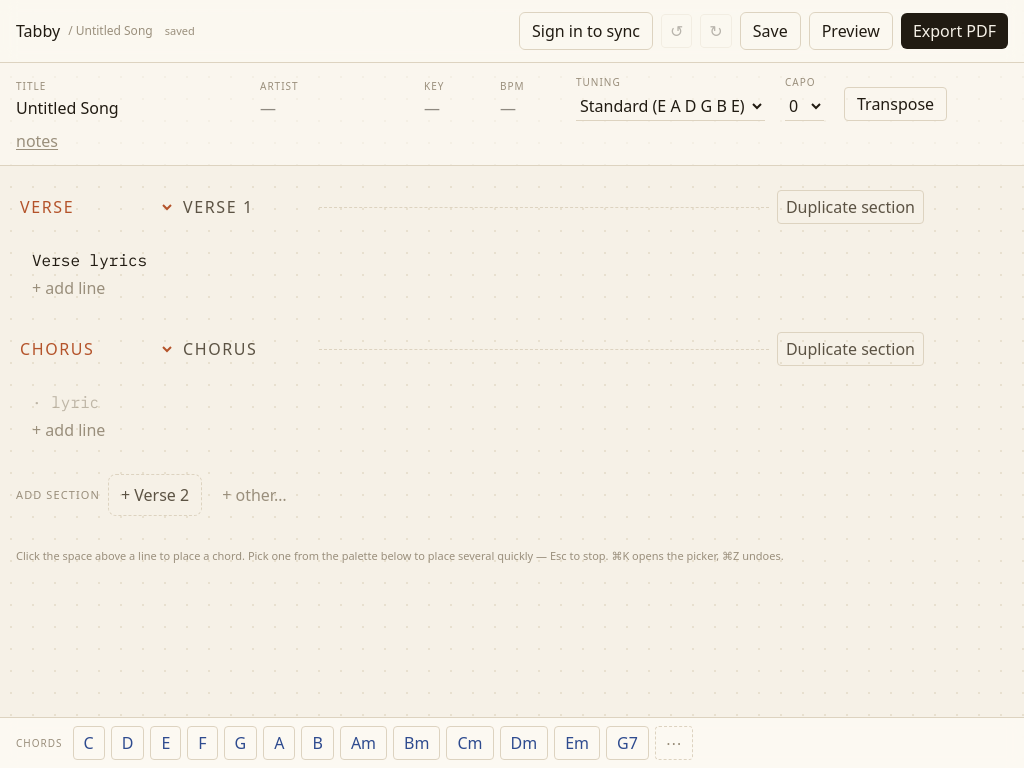
Test: app smoke › adds suggested sections blank with no clone shortcuts
This screenshot has width=1024, height=768.
Click the button "+ Verse 2": (155, 495) [108, 474, 202, 516]
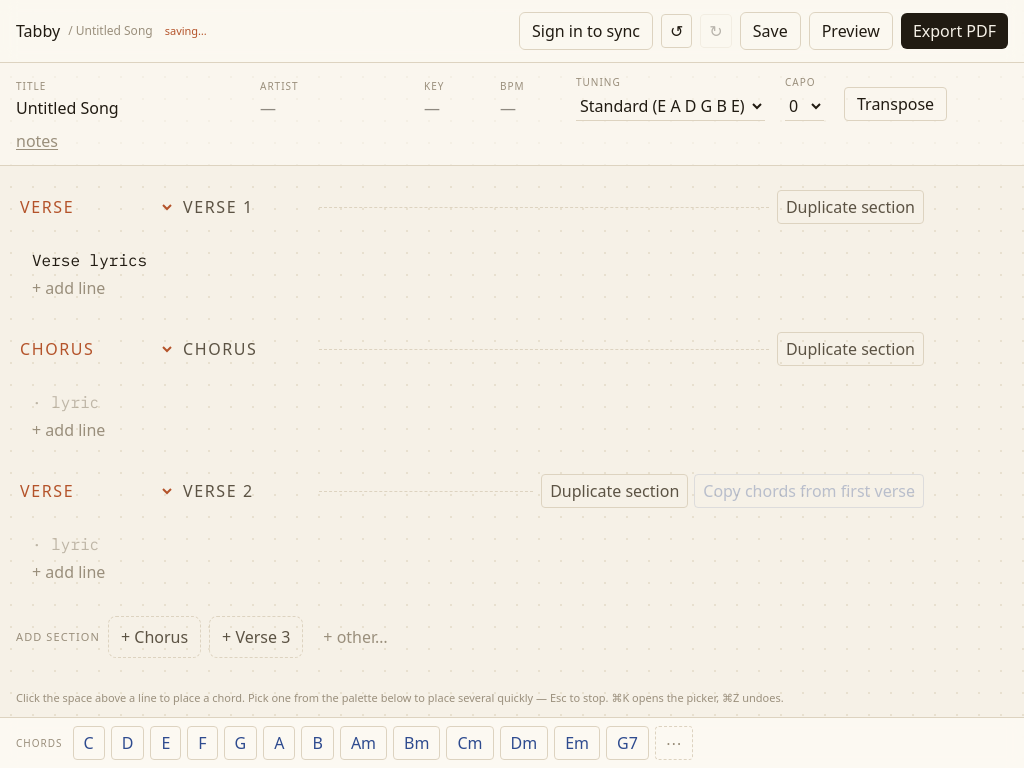
Now the 3rd field named "Section title" holds "Verse 2", box [183, 478, 311, 504]
Now the 2nd field with class "lyric-input" is empty, box [32, 532, 109, 556]
